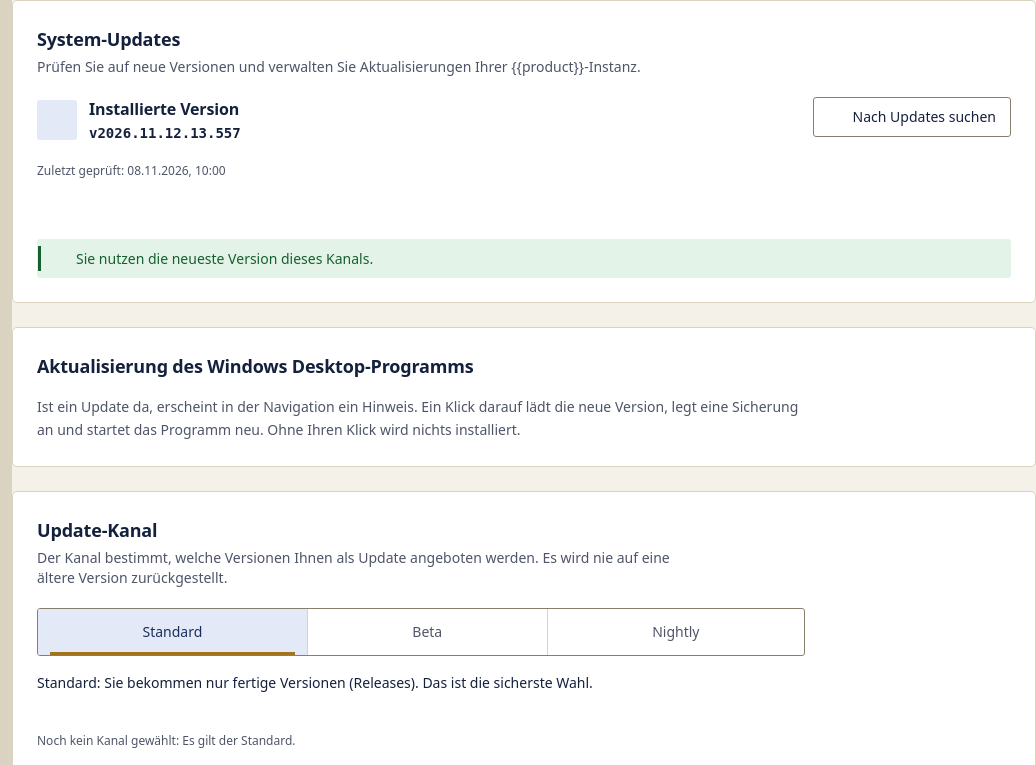
it: update page: channel › shows a failed save of the channel in full
Click the radio button labelled "Nightly" at (675, 632), box [547,608,804,654]
(page scrolled)
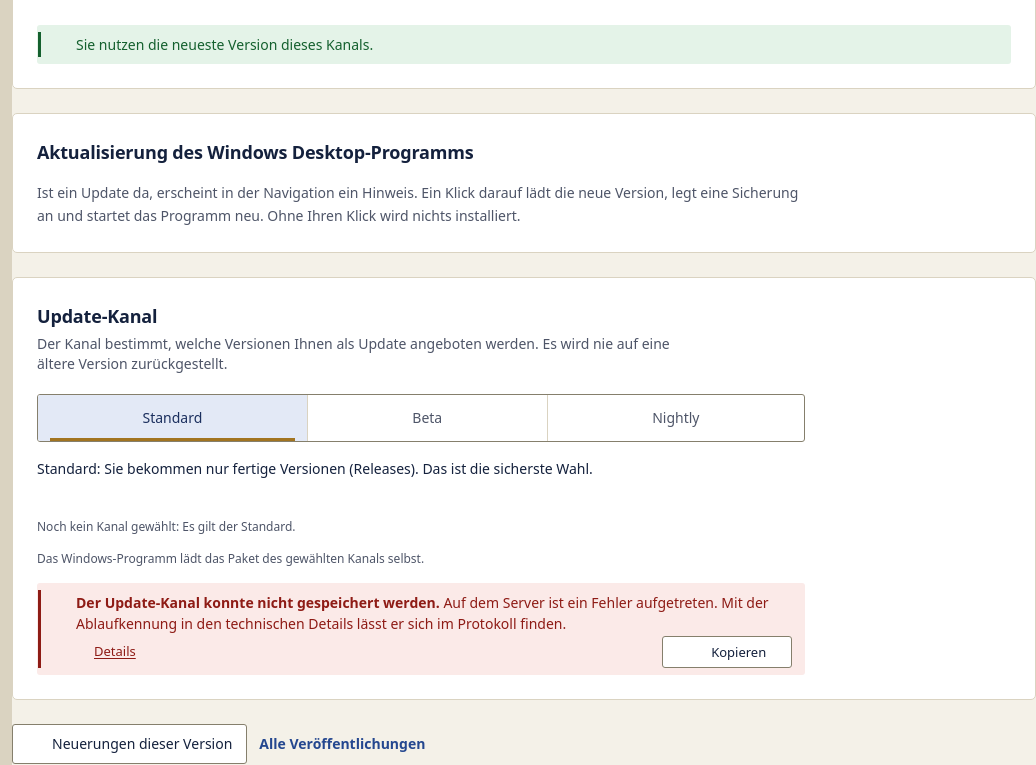
expect the message with test id "error-notice" shows "Der Update-Kanal konnte nicht gespeichert werden.": met, box [76,593,440,612]
expect the button with test id "copy-button" is shown: met, box [662,636,792,668]
